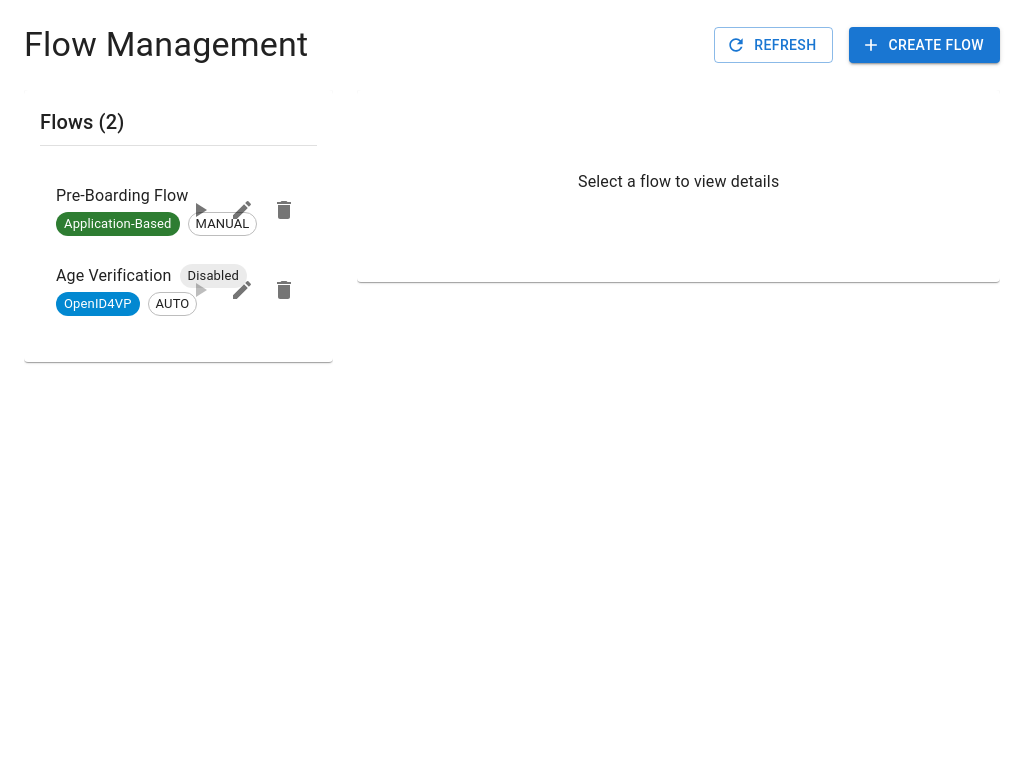
Scenario: FlowsPage › should show confirmation dialog before deleting flow
Click the button named "delete pre-boarding flow" at (284,210), box [267,193,301,227]
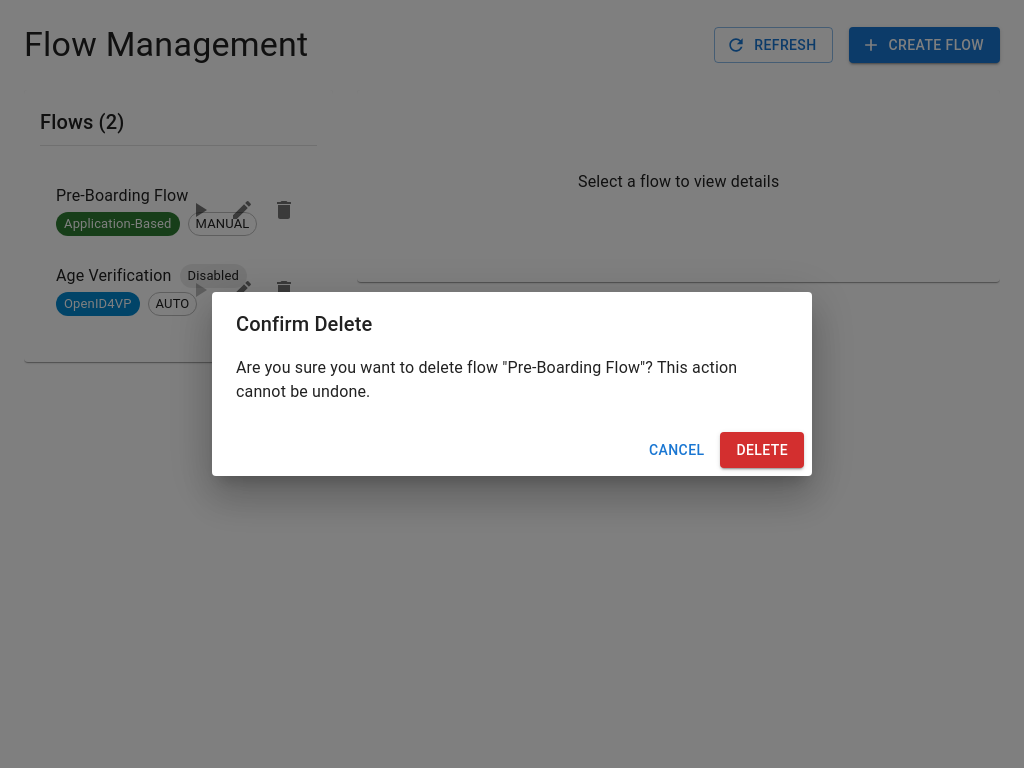
Check: the heading "Confirm Delete" is shown, box [236,312,372,336]
